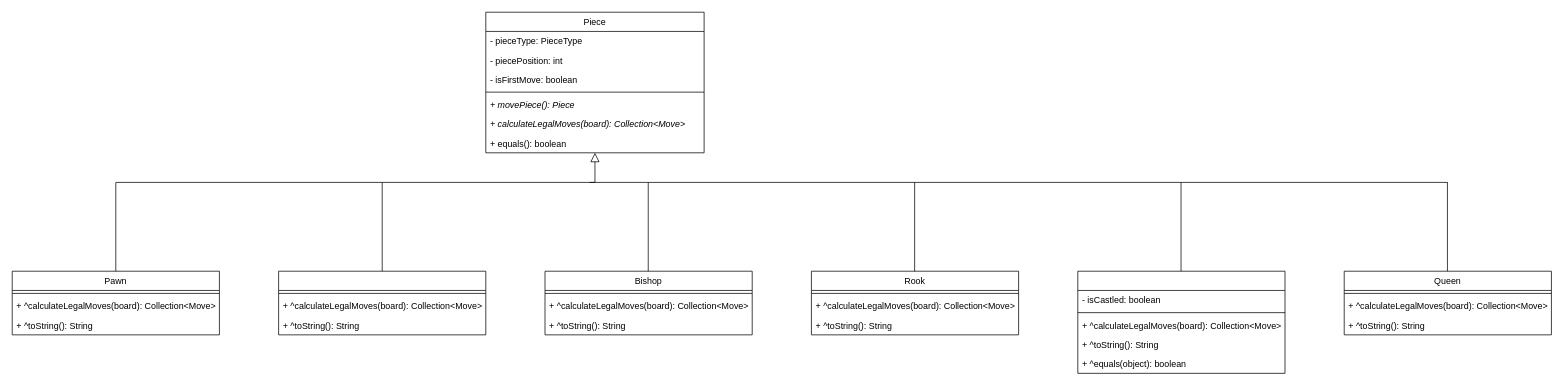
This 1564x386 diagram has some shape labels left out. The box of each missing label's shape, as (x1, y1, x2, y2) in pixels:
King: (1077, 270, 1285, 373)
Knight: (278, 270, 486, 335)
